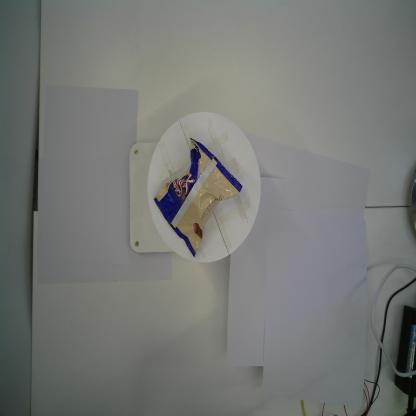Dessert: (153, 136, 243, 260)
